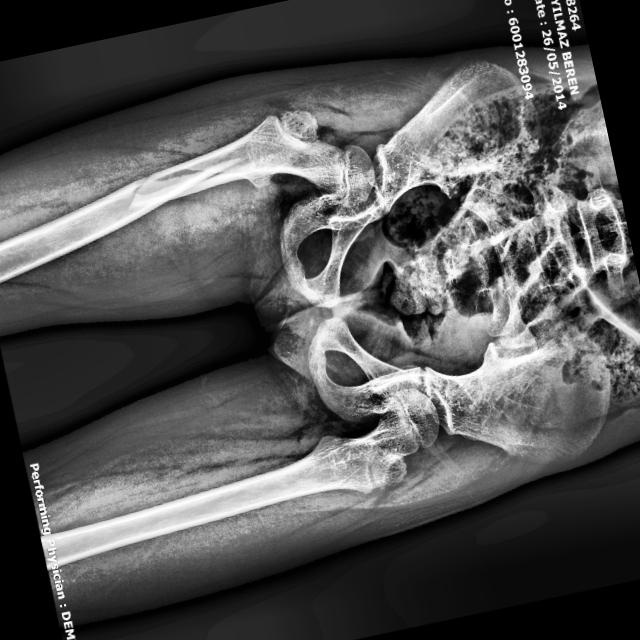Fracture: (111, 160, 168, 237)
